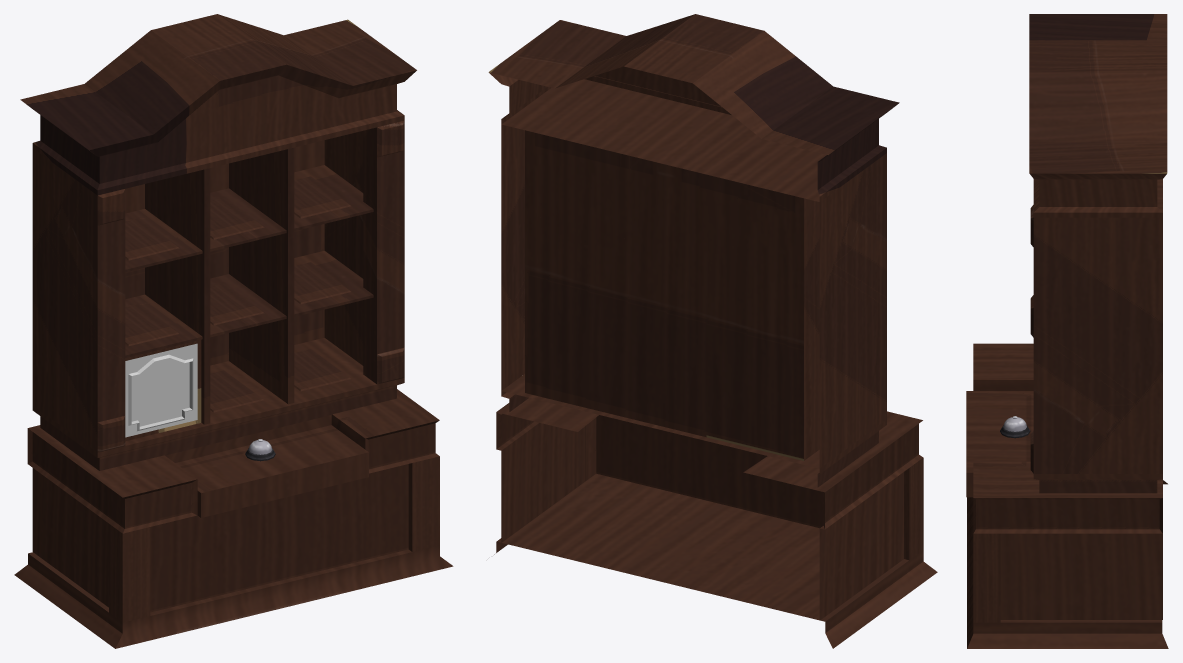
File: jangsickjang.FBX
3 renders of one model, left to right at view 1: azimuth 30°, elevation 25°; view 2: azimuth 150°, elevation 25°; view 3: azimuth 270°, elevation 25°, orthographic. The views are drawn at different scales.
Parts seen in each view (by area): view 1: 2f_jangsickjang, 2f_jangsikjang_answer_door; view 2: 2f_jangsickjang; view 3: 2f_jangsickjang, 2f_jangsikjang_answer_bell.
Part boxes in pixels (x1,y1,x2,y2): 2f_jangsickjang: [14, 14, 453, 648]; 2f_jangsikjang_answer_door: [125, 343, 197, 437]; 2f_jangsickjang: [488, 14, 937, 648]; 2f_jangsickjang: [966, 14, 1168, 648]; 2f_jangsikjang_answer_bell: [1000, 416, 1030, 438].
Size of the model in its own units: 200 by 290 by 104.
